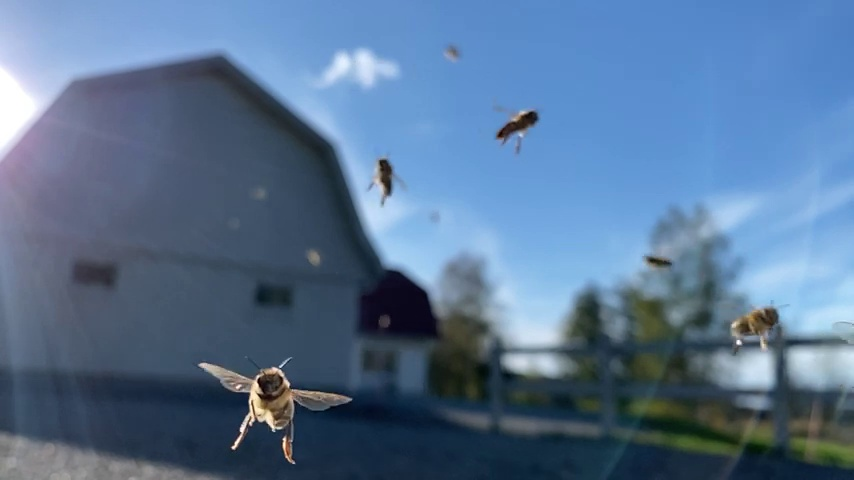insect: (193, 357, 352, 463), (725, 299, 788, 350), (363, 154, 409, 208), (493, 106, 539, 150), (643, 253, 673, 271)
